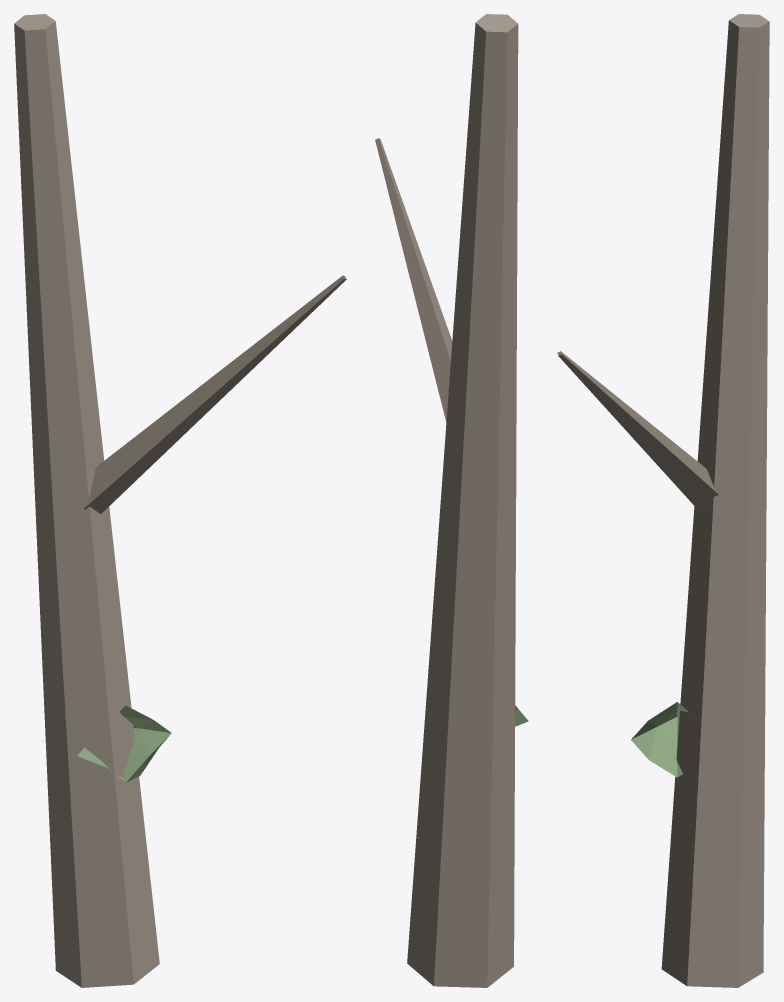
The model's file is snag_v36.glb.
The picture shows the model from 3 angles, left to right: view 1: azimuth 30°, elevation 25°; view 2: azimuth 150°, elevation 25°; view 3: azimuth 270°, elevation 25°; orthographic projection. The views are drawn at different scales.
Parts seen in each view (by area): view 1: lod0; view 2: lod0; view 3: lod0.
Boxes of the visible parts, bbox=[...] form: lod0: bbox=[14, 14, 346, 987]; lod0: bbox=[375, 14, 528, 987]; lod0: bbox=[557, 14, 769, 987].
Size of what is drawn, in the model's own units: 0.7393 by 2.91 by 0.6038.
